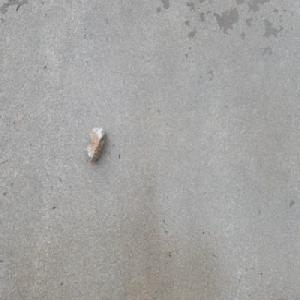Rock: (86, 125, 106, 165)
